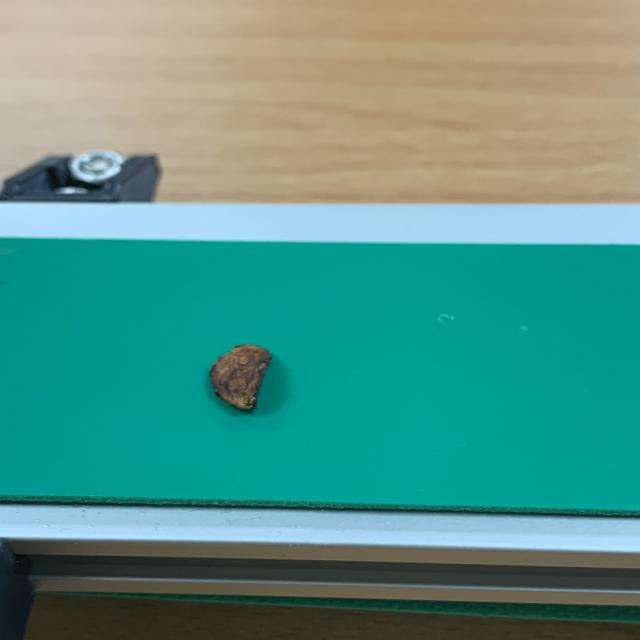Flat_cocoabeans: (156, 306, 349, 441)
